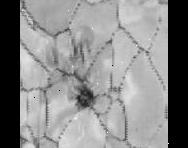good_void: (71, 81, 96, 110)
